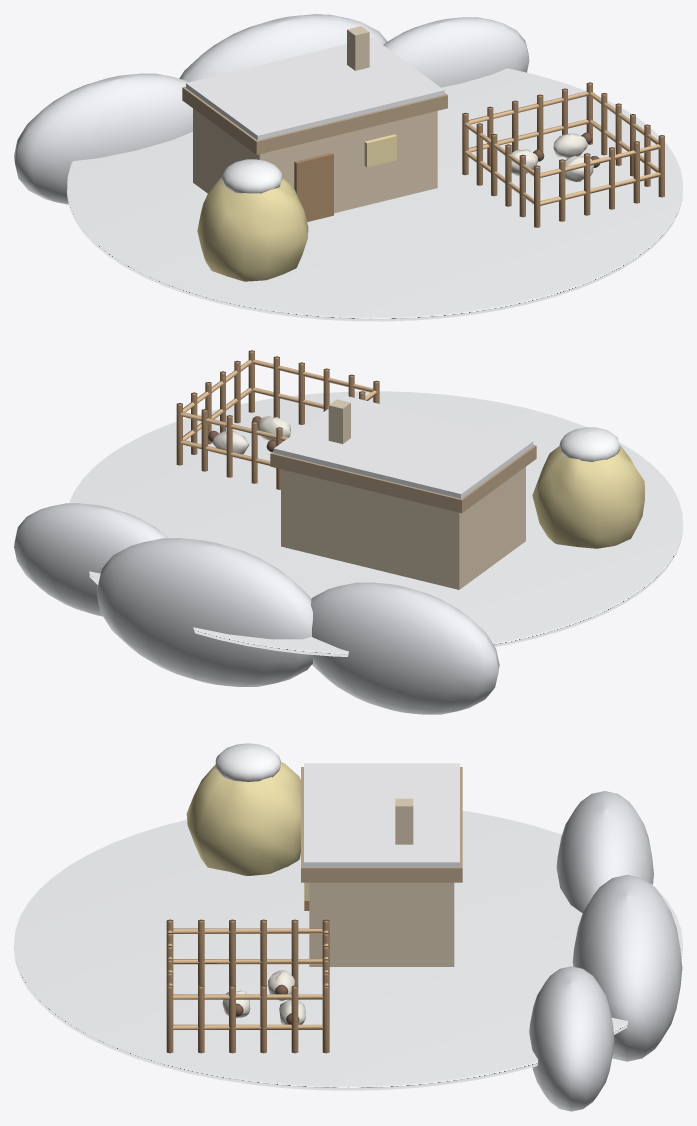
Rendered from qystau.glb.
3 views of the same model, one above another, from view 1: azimuth 30°, elevation 25°; view 2: azimuth 150°, elevation 25°; view 3: azimuth 270°, elevation 25° (orthographic). The views are drawn at different scales.
Visible parts, largest first — view 1: snow, hill (×3), roof-snow, house, haystack, roof, door, rail (×4), hay-snow, chimney, window, sheep; view 2: hill (×3), snow, house, roof-snow, haystack, roof, hay-snow, chimney, rail; view 3: snow, hill (×3), roof-snow, house, haystack, roof, rail (×4), hay-snow, chimney.
Part boxes in pixels (x1=…): snow: x1=67, y1=68, x2=682, y2=321; hill (×3): x1=14, y1=14, x2=529, y2=204; roof-snow: x1=186, y1=37, x2=444, y2=140; house: x1=193, y1=108, x2=437, y2=213; haystack: x1=197, y1=177, x2=308, y2=281; roof: x1=182, y1=86, x2=447, y2=154; door: x1=294, y1=152, x2=333, y2=221; rail (×4): x1=468, y1=91, x2=660, y2=205; hay-snow: x1=221, y1=159, x2=282, y2=193; chimney: x1=347, y1=26, x2=369, y2=70; window: x1=364, y1=134, x2=396, y2=167; sheep: x1=553, y1=133, x2=588, y2=158; hill (×3): x1=14, y1=503, x2=499, y2=714; snow: x1=69, y1=391, x2=682, y2=656; house: x1=281, y1=467, x2=525, y2=589; roof-snow: x1=274, y1=396, x2=533, y2=498; haystack: x1=532, y1=446, x2=644, y2=548; roof: x1=270, y1=445, x2=536, y2=513; hay-snow: x1=559, y1=427, x2=620, y2=461; chimney: x1=328, y1=399, x2=350, y2=443; rail: x1=252, y1=359, x2=373, y2=392; snow: x1=14, y1=810, x2=682, y2=1090; hill (×3): x1=529, y1=791, x2=682, y2=1111; roof-snow: x1=304, y1=763, x2=459, y2=867; house: x1=309, y1=882, x2=454, y2=966; haystack: x1=186, y1=762, x2=300, y2=875; roof: x1=301, y1=767, x2=462, y2=882; rail (×4): x1=172, y1=928, x2=323, y2=1029; hay-snow: x1=215, y1=743, x2=280, y2=781; chimney: x1=395, y1=798, x2=413, y2=844.
Size of the model in its own units: 6 by 2.22 by 6.
